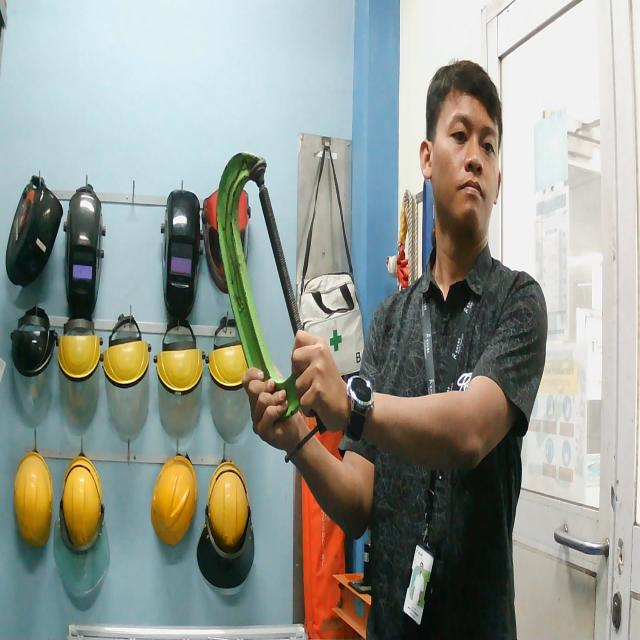tekiro_c_clamp: (208, 142, 338, 479)
